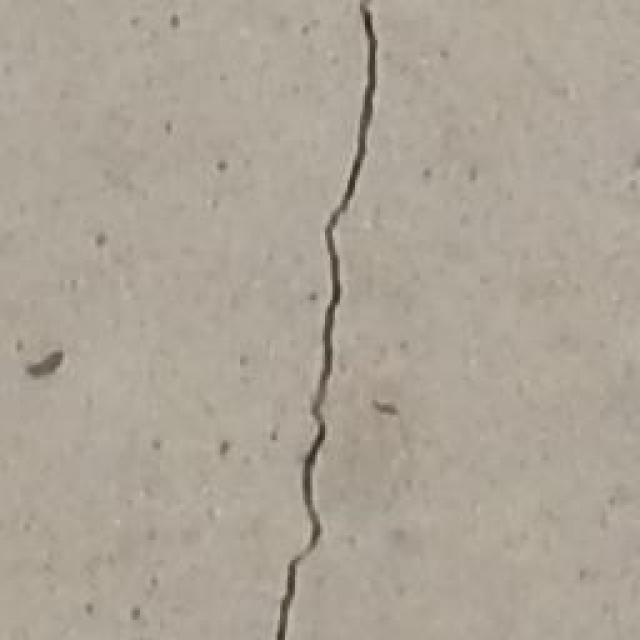concrete-crack: (275, 0, 378, 640)
